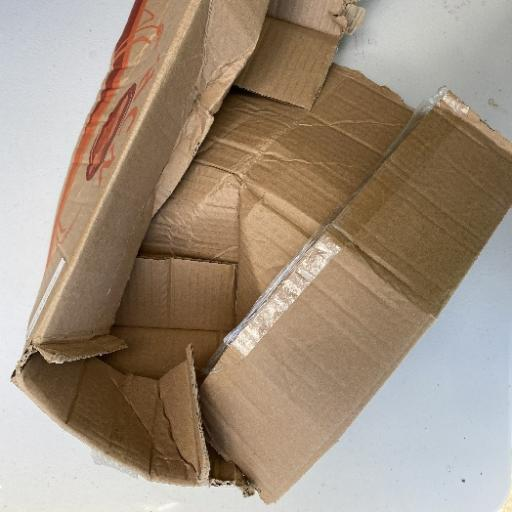Cardboard: (10, 2, 510, 503)
